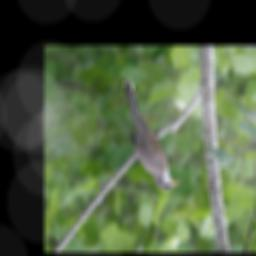Cuckoo: (121, 78, 182, 192)
